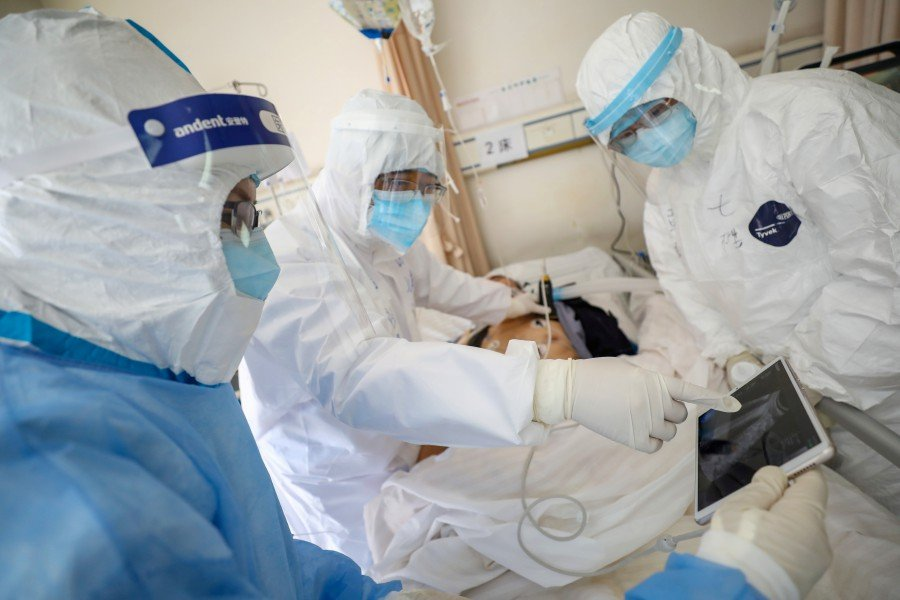Coverall: (570, 2, 900, 478), (233, 75, 529, 570)
Face_Shield: (121, 80, 322, 354), (584, 25, 715, 195)
Gloves: (523, 344, 752, 463), (697, 458, 847, 600), (488, 288, 558, 320)
with_mask: (210, 160, 295, 318), (608, 94, 689, 167), (373, 169, 436, 255)
